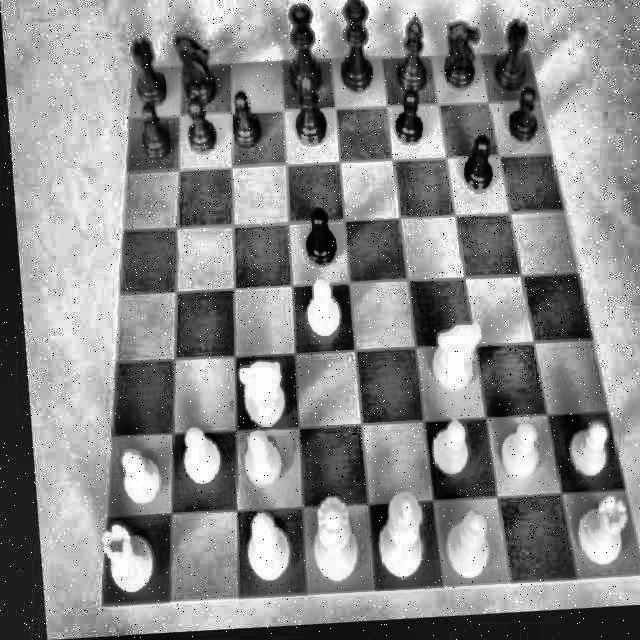black-bishop: (385, 11, 431, 100), (288, 76, 325, 159)
black-king: (330, 0, 380, 104)
black-knight: (436, 16, 481, 102), (173, 30, 219, 111)
black-pawn: (132, 96, 176, 174), (292, 208, 338, 278), (451, 140, 499, 206), (389, 90, 432, 160), (178, 92, 219, 164), (226, 88, 264, 155), (500, 94, 540, 152)
black-queen: (280, 1, 327, 104)
black-rook: (486, 18, 530, 102), (127, 36, 165, 109)
white-bishop: (232, 510, 289, 594), (429, 509, 488, 586)
white-king: (361, 494, 425, 591)
white-knight: (422, 327, 479, 402), (232, 359, 288, 434)
white-pawn: (554, 424, 607, 491), (106, 448, 158, 512), (488, 425, 534, 496), (418, 423, 466, 489), (174, 424, 218, 496), (233, 431, 281, 496), (296, 283, 338, 350)
white-queen: (298, 494, 355, 588)
white-rook: (87, 518, 147, 602), (561, 500, 621, 574)
